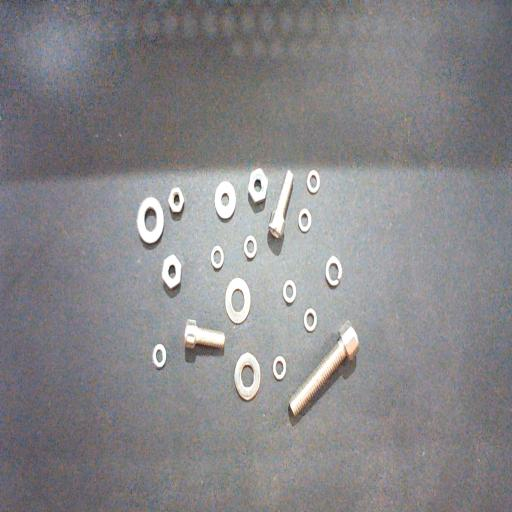nut: (248, 168, 268, 203), (162, 254, 181, 290), (168, 187, 184, 213)
screw: (290, 320, 360, 418), (268, 170, 293, 239), (184, 320, 225, 348)
washer: (137, 197, 164, 244), (234, 353, 260, 400), (225, 278, 250, 324), (214, 181, 236, 219), (325, 256, 342, 286), (282, 279, 296, 304), (210, 245, 224, 269), (152, 344, 166, 368), (298, 208, 311, 233), (244, 235, 257, 259), (304, 308, 317, 332), (273, 356, 286, 380), (307, 170, 320, 193)
